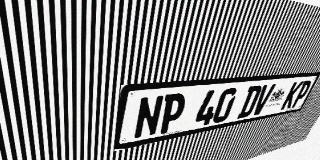0: (211, 87, 239, 124)
4: (193, 89, 222, 127)
D: (237, 85, 263, 119)
K: (280, 81, 304, 110)
N: (133, 95, 165, 140)
P: (157, 92, 188, 135), (290, 80, 313, 108)
V: (250, 84, 276, 116)
